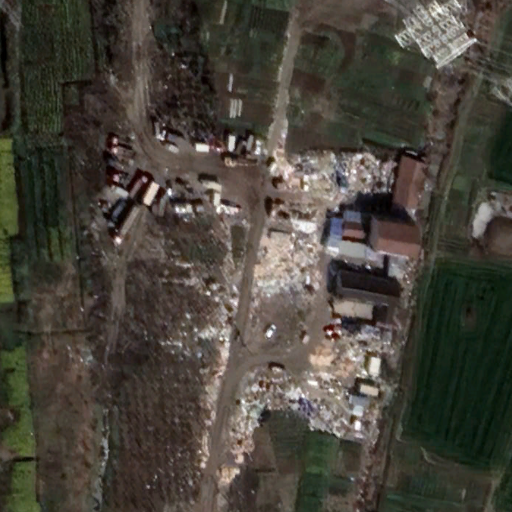msw: (199, 144, 393, 460)
